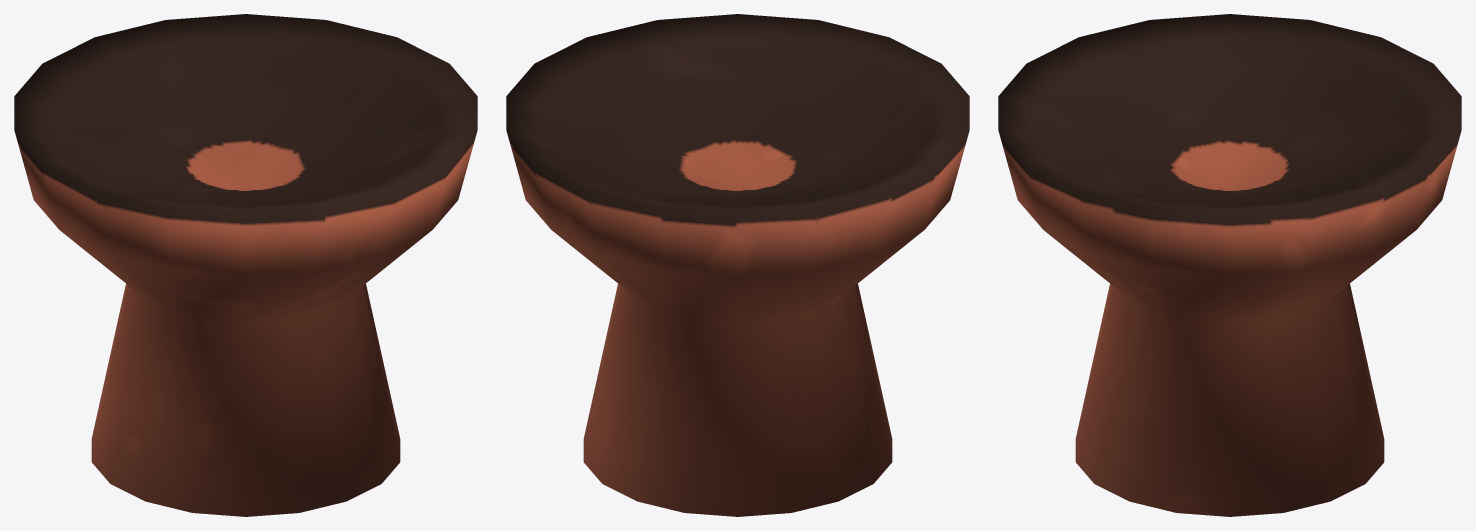
The model's file is lava_bowl.glb.
The picture shows the model from 3 angles, left to right: view 1: azimuth 30°, elevation 25°; view 2: azimuth 150°, elevation 25°; view 3: azimuth 270°, elevation 25°; orthographic projection.
Parts seen in each view (by area): view 1: LavaBowl; view 2: LavaBowl; view 3: LavaBowl.
Boxes of the visible parts, box(x1,y1,x2,y2) form: LavaBowl: box(14, 14, 477, 516); LavaBowl: box(506, 14, 969, 516); LavaBowl: box(998, 14, 1461, 516).
Bounding box in the file's own units: 1.2 × 0.95 × 1.18.
Materials: 1 (1 with a texture image).
